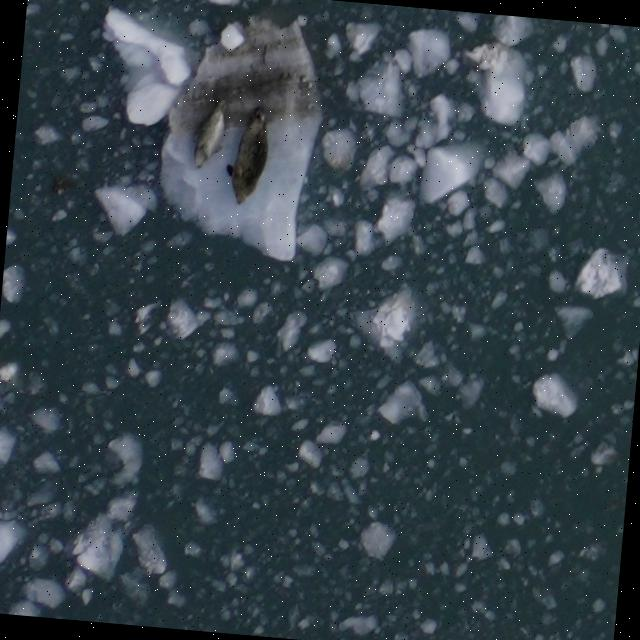seal: (218, 100, 277, 210), (188, 92, 231, 173)
